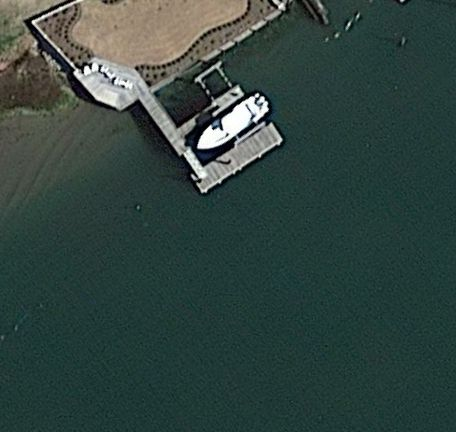boat: (192, 94, 270, 153)
